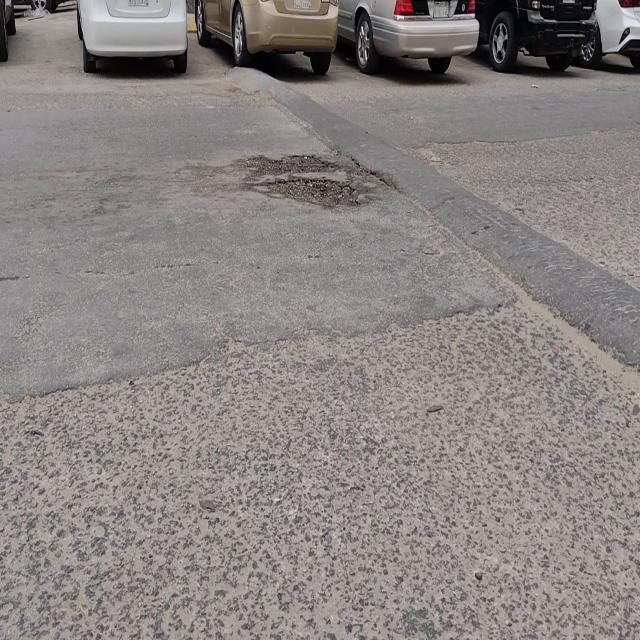Potholes: (256, 152, 358, 210)
